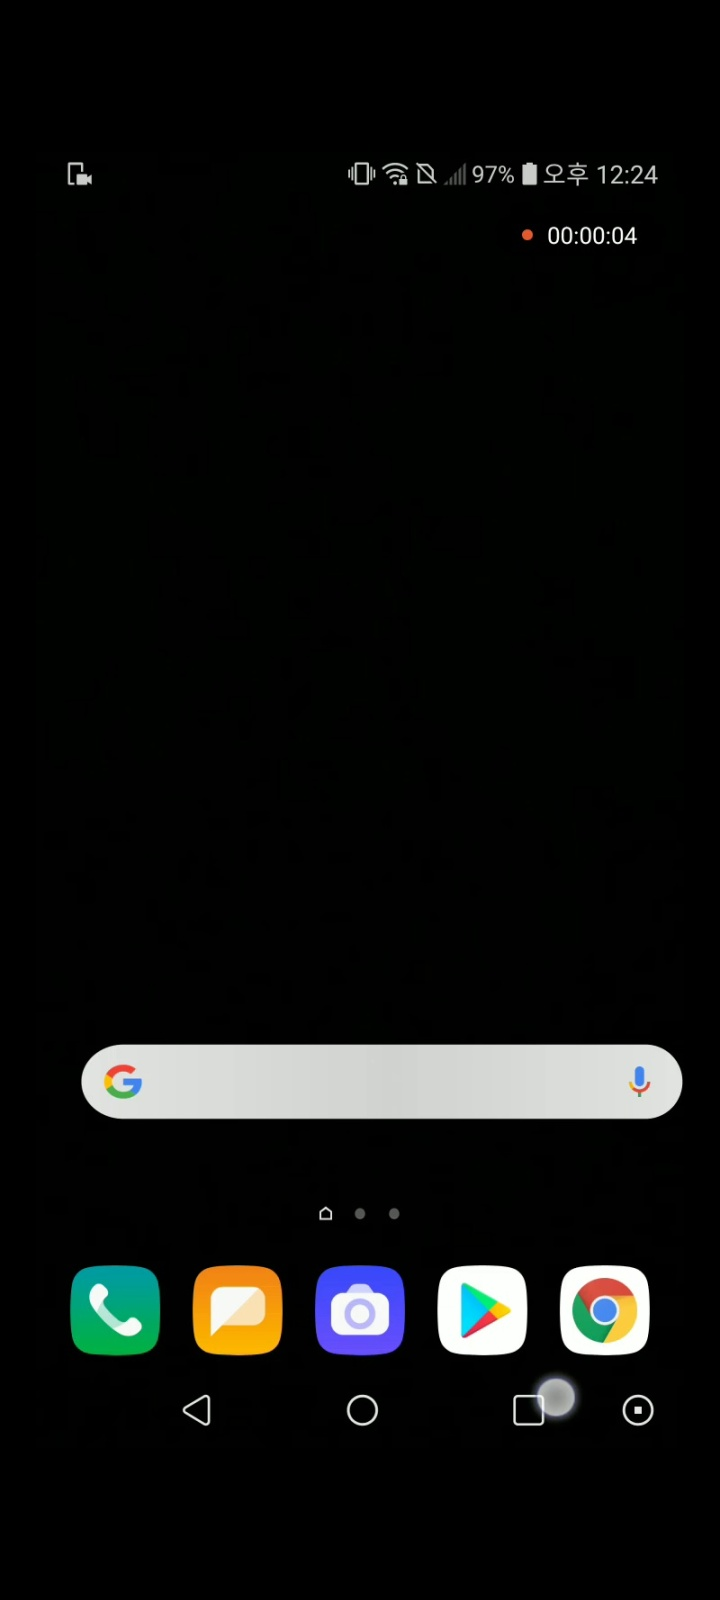Cursor: (533, 1376, 578, 1421)
